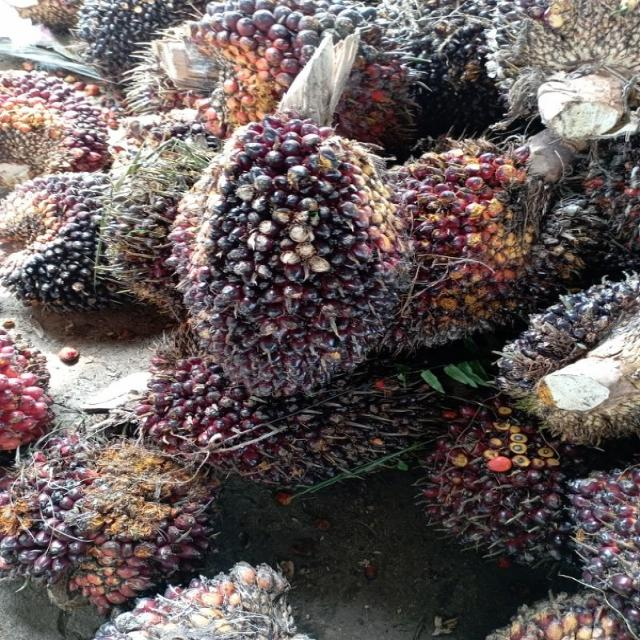fraksi 00: (188, 121, 394, 402), (0, 429, 236, 598), (3, 176, 154, 306)
fraksi 1: (352, 129, 588, 336), (162, 0, 426, 142), (143, 352, 399, 482)
